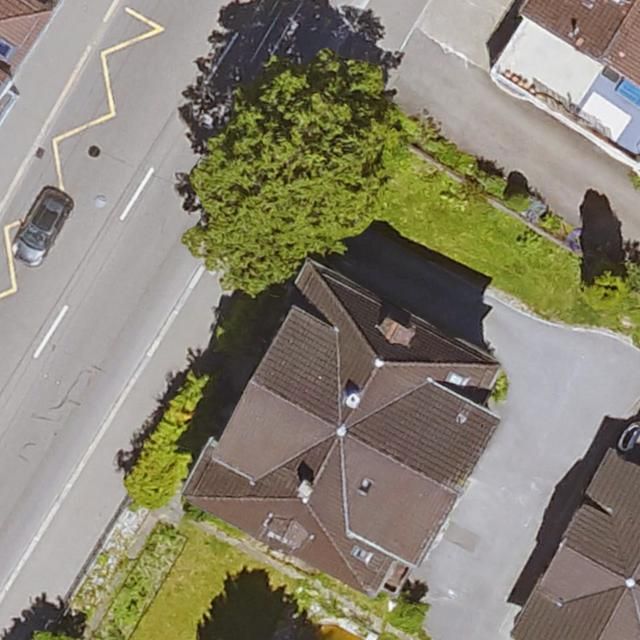tree: (188, 65, 389, 291), (582, 259, 638, 314), (21, 628, 82, 640)
